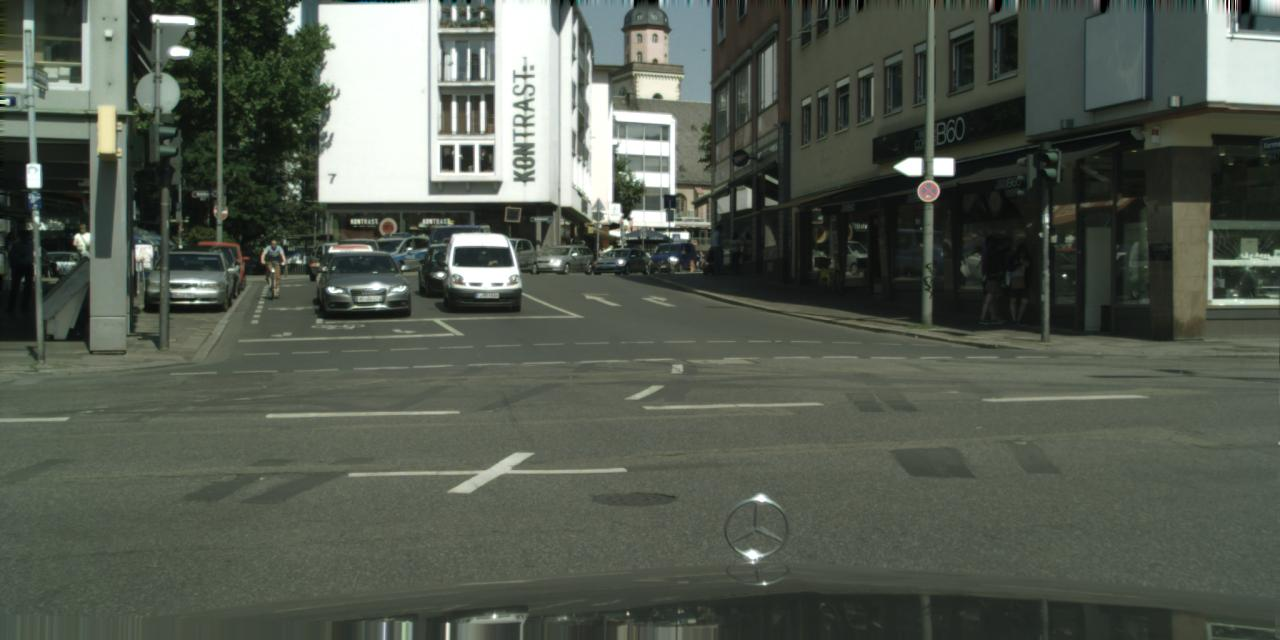ped: (978, 234, 1014, 325), (1002, 243, 1036, 326), (7, 230, 34, 314), (73, 223, 95, 279), (263, 239, 283, 287), (710, 224, 729, 274), (725, 232, 743, 275), (599, 246, 614, 256), (696, 252, 704, 270), (41, 247, 47, 263)
